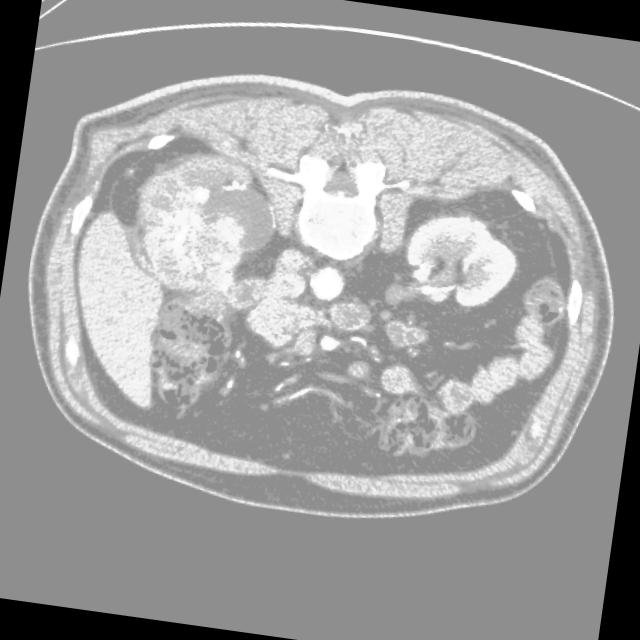TUMOR: (45, 125, 524, 389)
